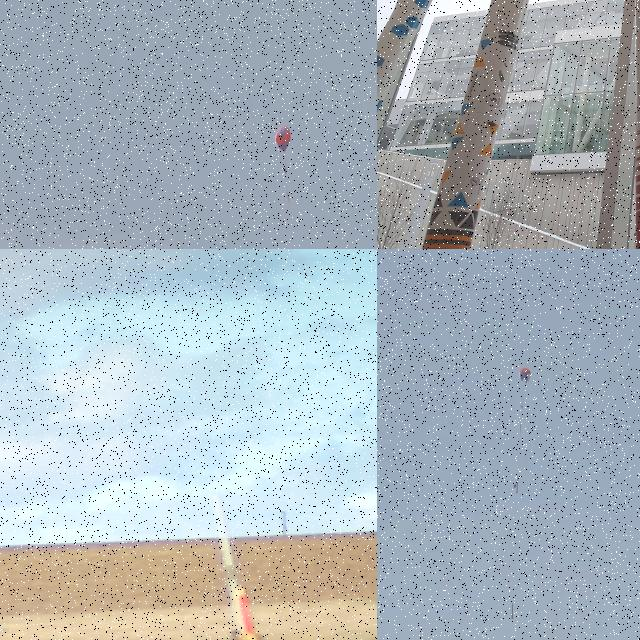Rocket: (422, 0, 529, 249), (377, 0, 433, 113), (234, 585, 267, 640), (510, 602, 514, 620)
